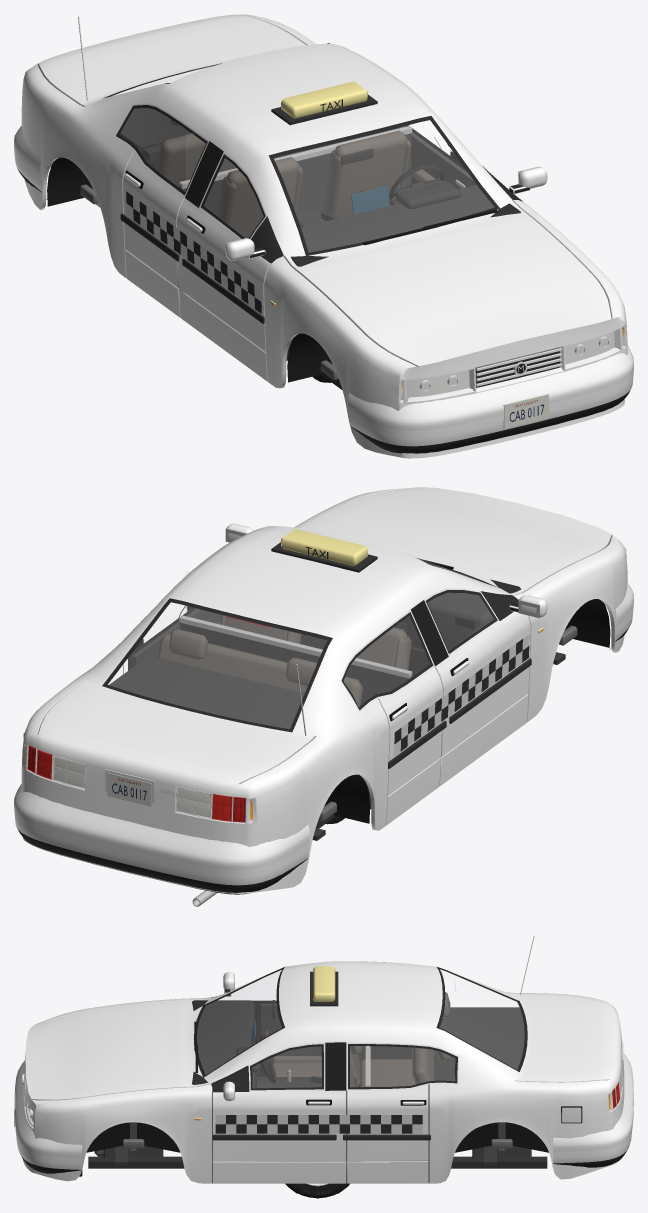
Rendered from taxi.glb.
The picture shows the model from 3 angles, top to bottom: view 1: azimuth 30°, elevation 25°; view 2: azimuth 150°, elevation 25°; view 3: azimuth 270°, elevation 25°; orthographic projection. The views are drawn at different scales.
Parts seen in each view (by area): view 1: LOD0; view 2: LOD0; view 3: LOD0, WHEEL0.
Part boxes in pixels (x1=…): LOD0: x1=14, y1=14, x2=633, y2=458; LOD0: x1=14, y1=487, x2=633, y2=906; LOD0: x1=14, y1=935, x2=633, y2=1183; WHEEL0: x1=285, y1=1183, x2=349, y2=1197.
Size of what is drawn, in the model's own units: 2.18 by 1.85 by 4.79.
